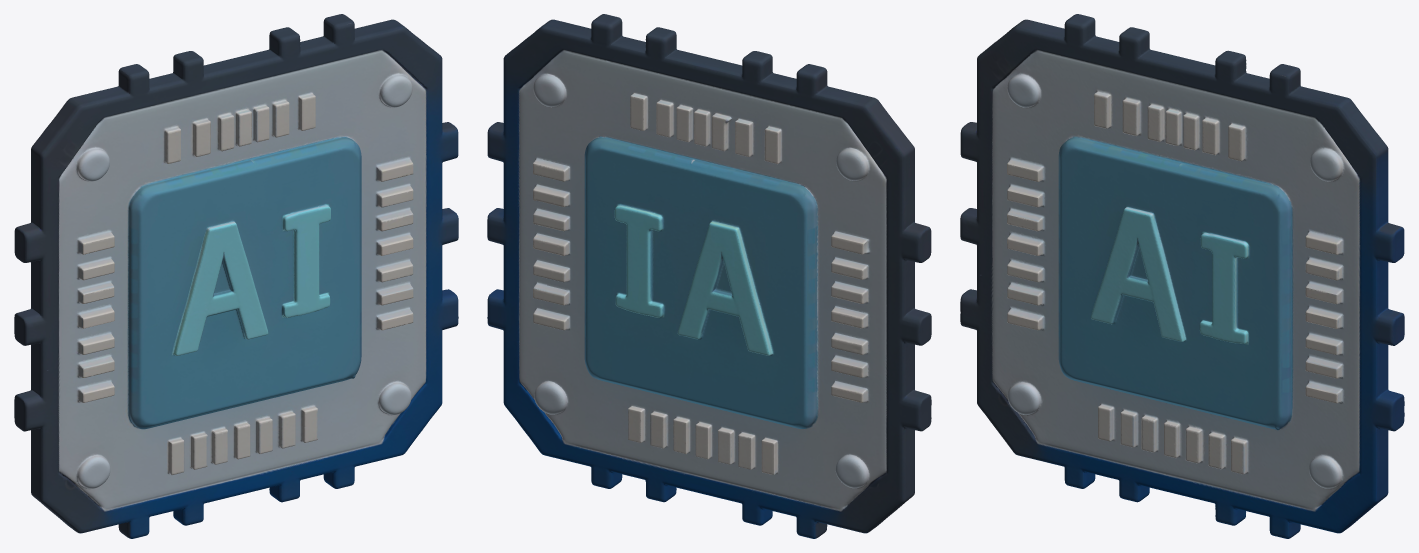
The model's file is aichip.glb.
3 views of the same model, side by side, from view 1: azimuth 30°, elevation 25°; view 2: azimuth 150°, elevation 25°; view 3: azimuth 330°, elevation 25° (orthographic).
Parts seen in each view (by area): view 1: tripo_node_85beb2f5-4c21-49cf-8a5b-4286b99627d7; view 2: tripo_node_85beb2f5-4c21-49cf-8a5b-4286b99627d7; view 3: tripo_node_85beb2f5-4c21-49cf-8a5b-4286b99627d7.
Part boxes in pixels (box(x1,y1,x2,y2)): tripo_node_85beb2f5-4c21-49cf-8a5b-4286b99627d7: box(14, 14, 458, 538); tripo_node_85beb2f5-4c21-49cf-8a5b-4286b99627d7: box(487, 14, 931, 538); tripo_node_85beb2f5-4c21-49cf-8a5b-4286b99627d7: box(960, 14, 1404, 538).
Bounding box in the file's own units: 0.9767 × 1 × 0.1267.
1 material, 1 textured.
